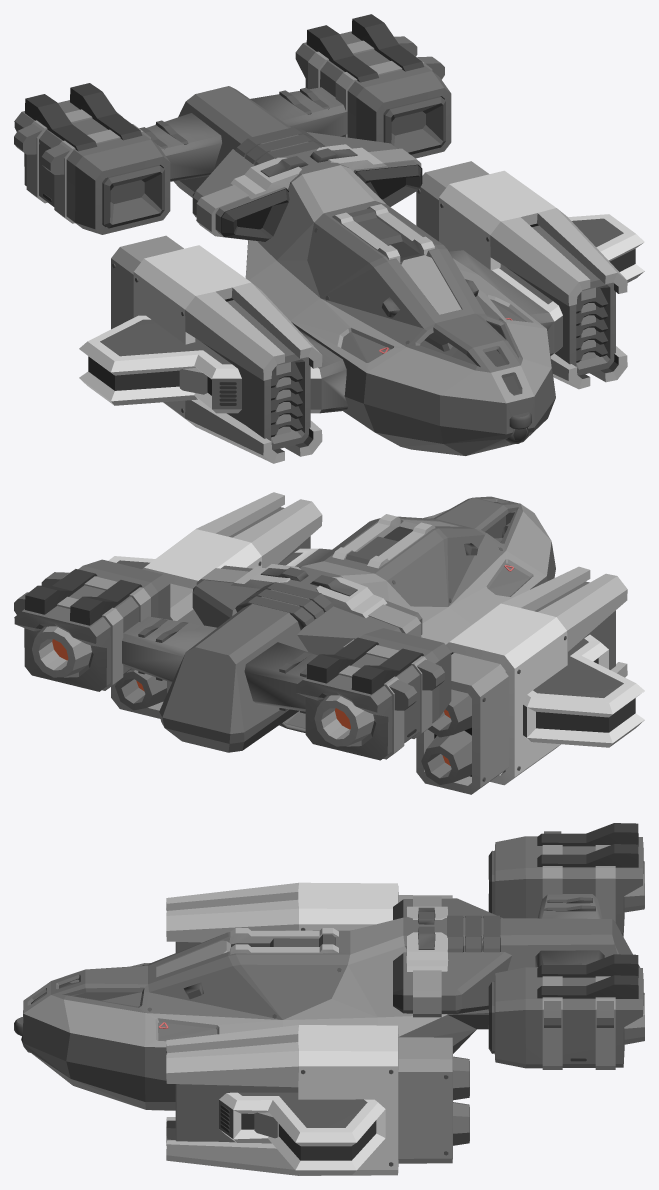
File: starship005.fbx
The picture shows the model from 3 angles, top to bottom: view 1: azimuth 30°, elevation 25°; view 2: azimuth 150°, elevation 25°; view 3: azimuth 270°, elevation 25°; orthographic projection. The views are drawn at different scales.
Parts seen in each view (by area): view 1: starship_005; view 2: starship_005; view 3: starship_005.
Boxes of the visible parts, x1=… form: starship_005: x1=14, y1=14, x2=644, y2=463; starship_005: x1=14, y1=492, x2=644, y2=794; starship_005: x1=14, y1=823, x2=644, y2=1175.
Size of the model in its own units: 1971 by 695 by 2113.
